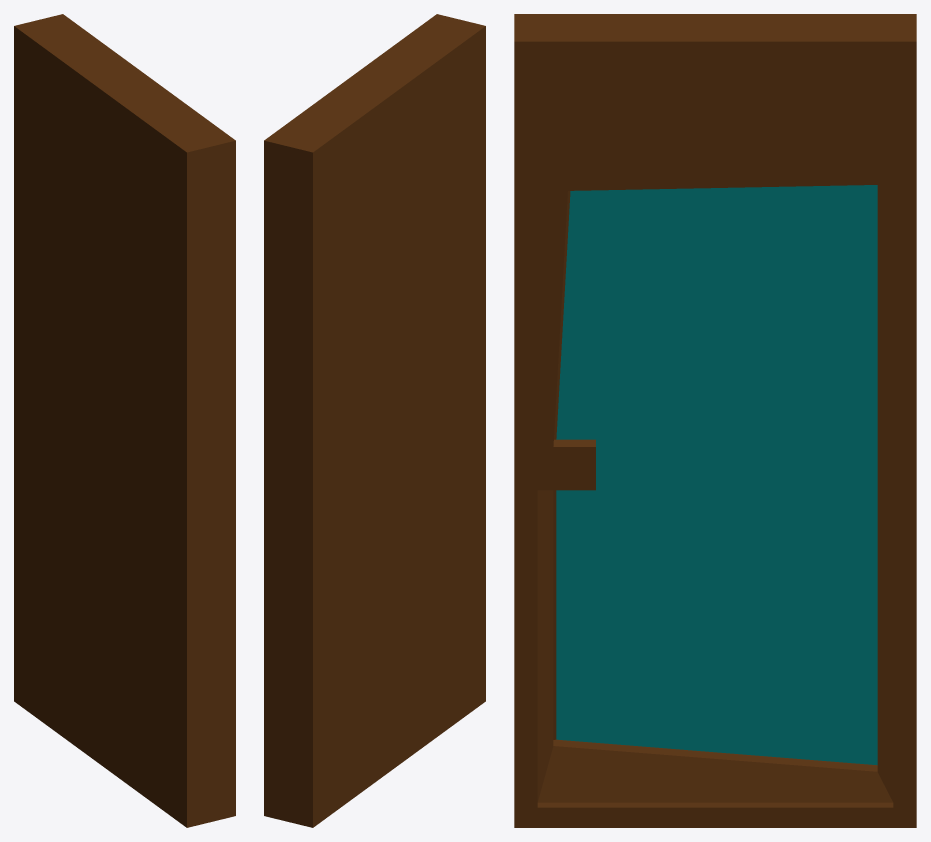
Rendered from BakerDoor.fbx.
3 views of the same model, side by side, from view 1: azimuth 30°, elevation 25°; view 2: azimuth 150°, elevation 25°; view 3: azimuth 270°, elevation 25° (orthographic). The views are drawn at different scales.
Visible parts, largest first — view 1: Cube.006; view 2: Cube.006; view 3: Cube.006.
Boxes of the visible parts, box(x1,y1,x2,y2) form: Cube.006: box(14, 14, 235, 827); Cube.006: box(264, 14, 485, 827); Cube.006: box(514, 14, 916, 827).
Size of the model in its own units: 22.08 by 135 by 291.
